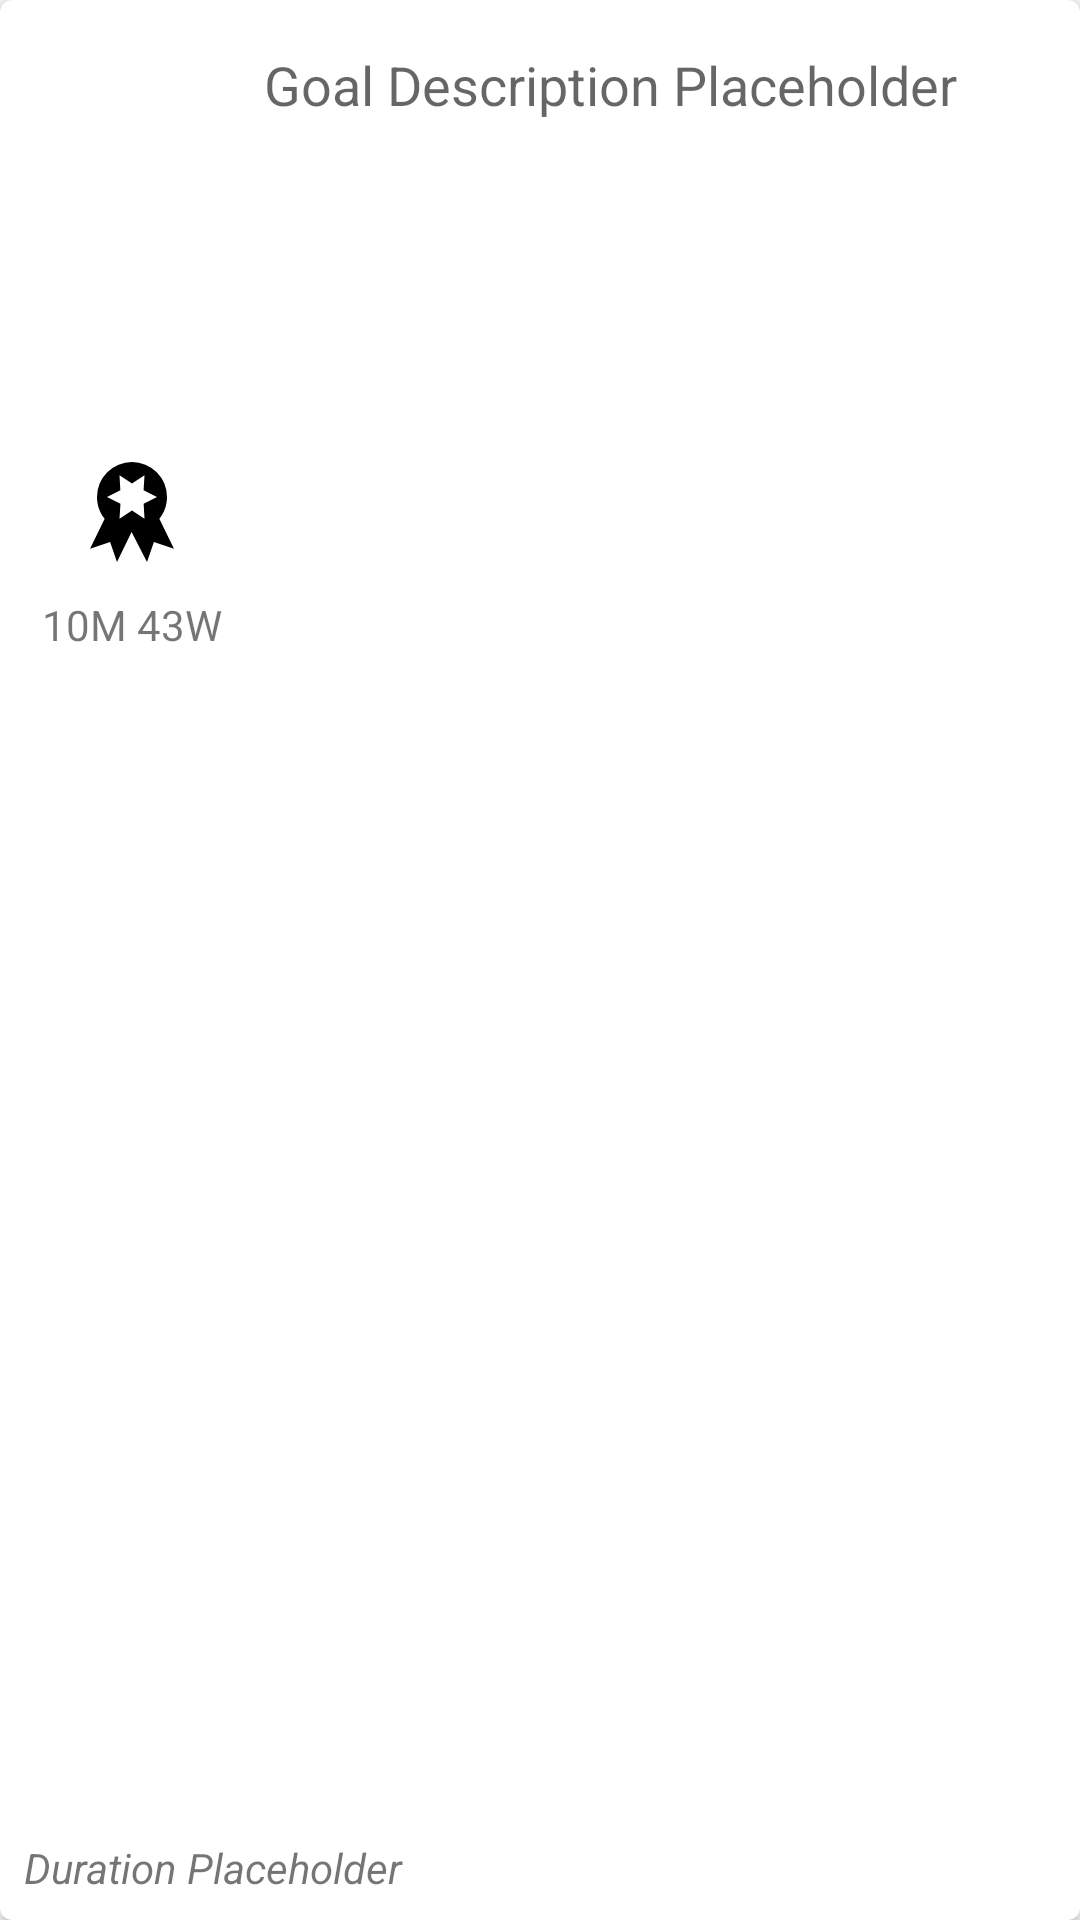

Named icons in this screenshot (1080*1920) and their bounding boxes, (x1, y1, x2, y2):
Achievement Badge: (90, 462, 174, 562)
